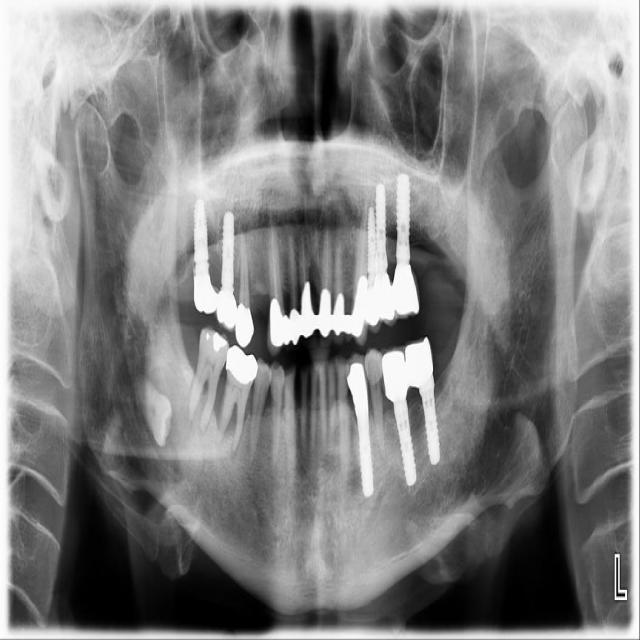52: (260, 275, 376, 358), (347, 258, 432, 336), (176, 263, 252, 337), (370, 335, 443, 405), (188, 322, 239, 372), (217, 342, 267, 389), (344, 352, 373, 410), (233, 301, 256, 349)
73: (263, 203, 282, 296), (354, 200, 371, 280), (285, 234, 299, 310), (297, 220, 311, 285), (320, 226, 333, 290), (334, 232, 343, 292), (590, 533, 608, 552)
Implant: (184, 324, 233, 434)
Keystone Dental Implant: (131, 368, 182, 450)
